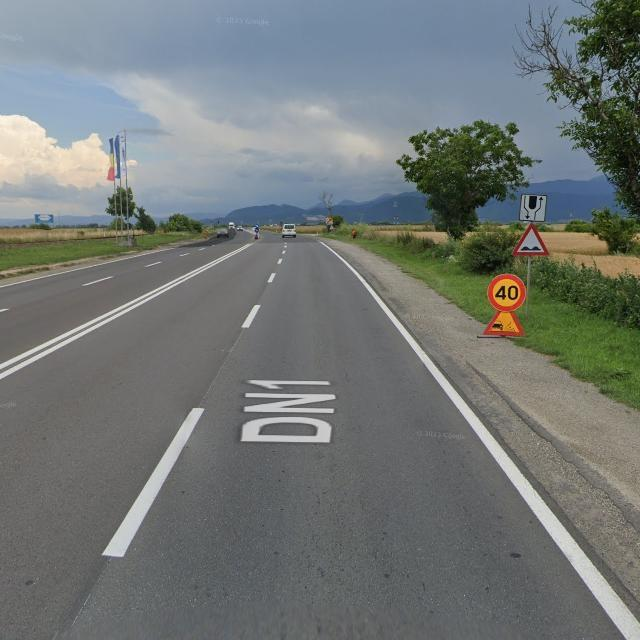forb_speed_over_40: (489, 274, 527, 313)
